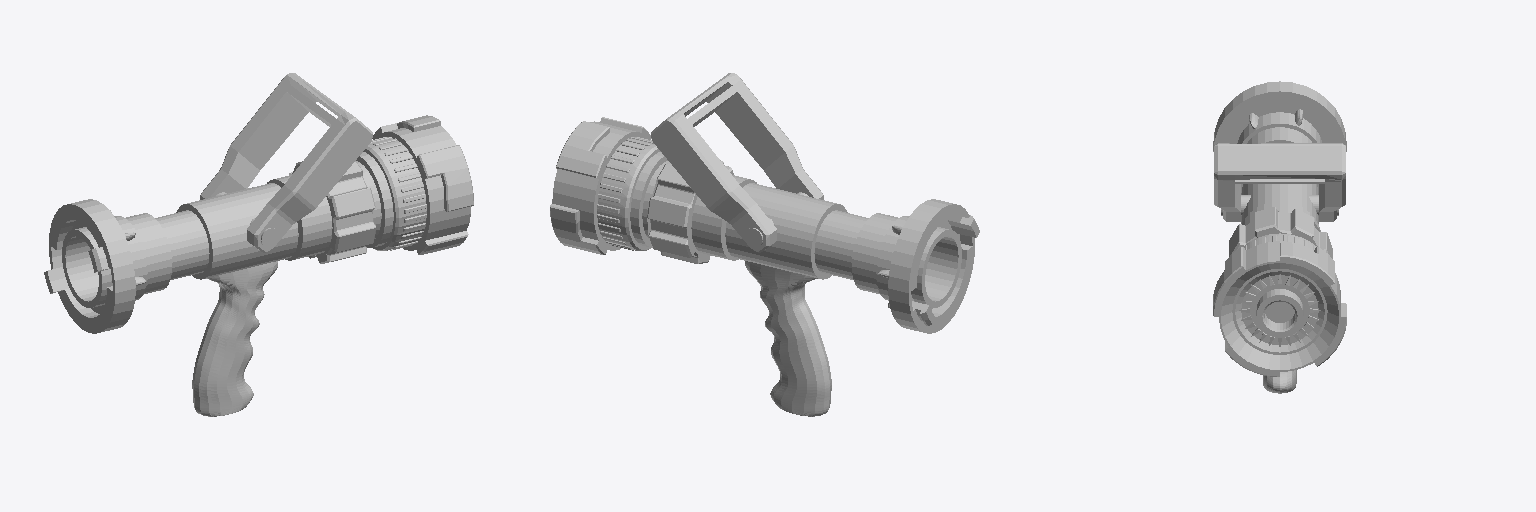
File: turbojet fighting nozzle.obj
The picture shows the model from 3 angles: view 1: azimuth 30°, elevation 25°; view 2: azimuth 150°, elevation 25°; view 3: azimuth 270°, elevation 25°; orthographic projection.
Parts seen in each view (by area): view 1: Circle.011, Plane.002, Circle.009, Circle.013, Plane.003, Circle.010, Circle.008; view 2: Circle.011, Plane.002, Circle.009, Circle.013, Plane.003, Circle.010, Circle.008; view 3: Circle.009, Plane.002, Circle.013, Circle.011, Circle.010, Cube.002_Cube.001, Plane.003.
Part boxes in pixels (x1,y1,x2,y2): Circle.011: (126, 152, 393, 294); Plane.002: (200, 73, 372, 252); Circle.009: (363, 115, 473, 254); Circle.013: (49, 199, 147, 333); Plane.003: (192, 261, 277, 416); Circle.010: (289, 161, 376, 263); Circle.008: (44, 247, 108, 293); Circle.011: (630, 152, 897, 294); Plane.002: (651, 73, 823, 252); Circle.009: (550, 117, 660, 254); Circle.013: (876, 199, 974, 333); Plane.003: (745, 261, 831, 416); Circle.010: (647, 160, 733, 263); Circle.008: (915, 215, 979, 325); Circle.009: (1213, 233, 1346, 376); Plane.002: (1214, 143, 1345, 221); Circle.013: (1213, 81, 1346, 192); Circle.011: (1241, 127, 1320, 231); Circle.010: (1229, 207, 1332, 258); Cube.002_Cube.001: (1239, 274, 1320, 346); Plane.003: (1263, 370, 1296, 393).
Size of the model in its own units: 2.3 by 1.72 by 0.7259.